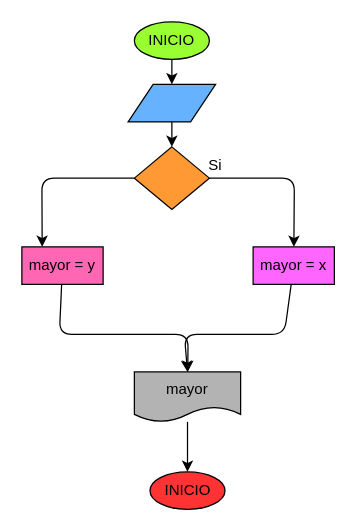
The diagram is 356 pixels wide and 531 high, and some of its shapes have lost their labels. Each missing label, with the centre of its shape:
"x > y" belongs at point (171, 177).
"x,y" belongs at point (171, 102).
